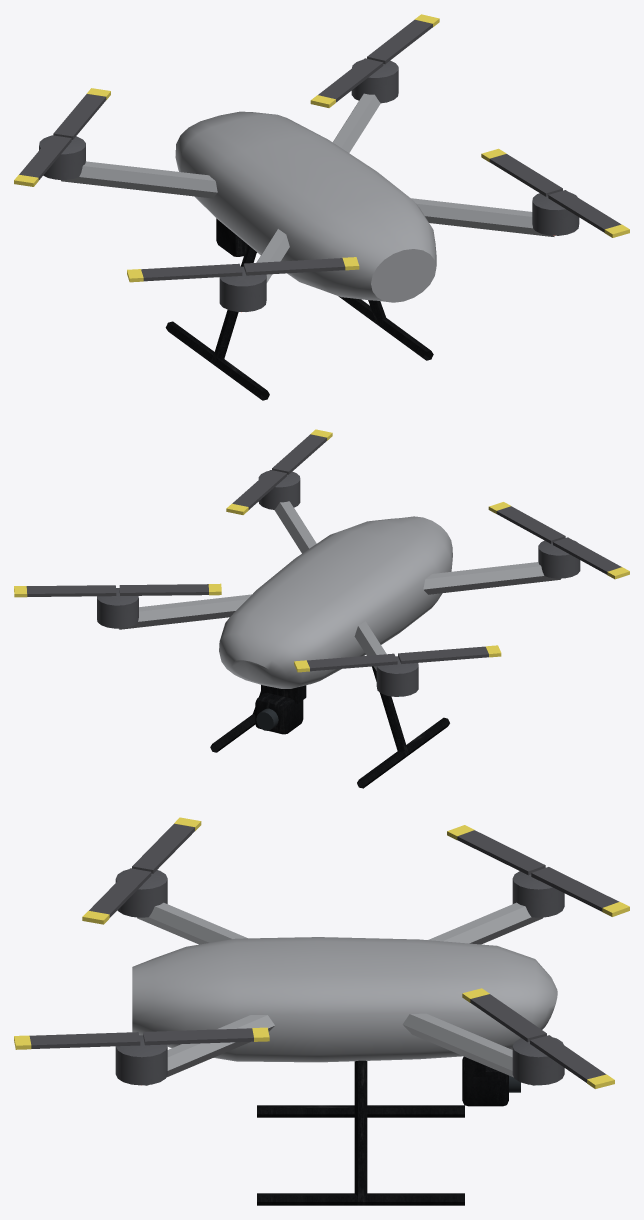
The model's file is drone_camera.gltf.
The picture shows the model from 3 angles, top to bottom: view 1: azimuth 30°, elevation 25°; view 2: azimuth 150°, elevation 25°; view 3: azimuth 270°, elevation 25°; orthographic projection. The views are drawn at different scales.
Parts seen in each view (by area): view 1: drone_camera; view 2: drone_camera; view 3: drone_camera.
Part boxes in pixels (bbox=[...]): drone_camera: bbox=[14, 14, 629, 400]; drone_camera: bbox=[14, 429, 629, 788]; drone_camera: bbox=[14, 817, 629, 1205].
Size of the model in its own units: 0.6095 by 0.2204 by 0.5928.
Materials: 8 (2 with a texture image).
